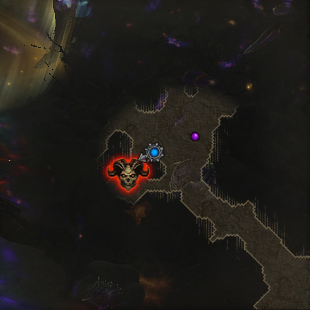Guardian: (105, 157, 150, 192)
